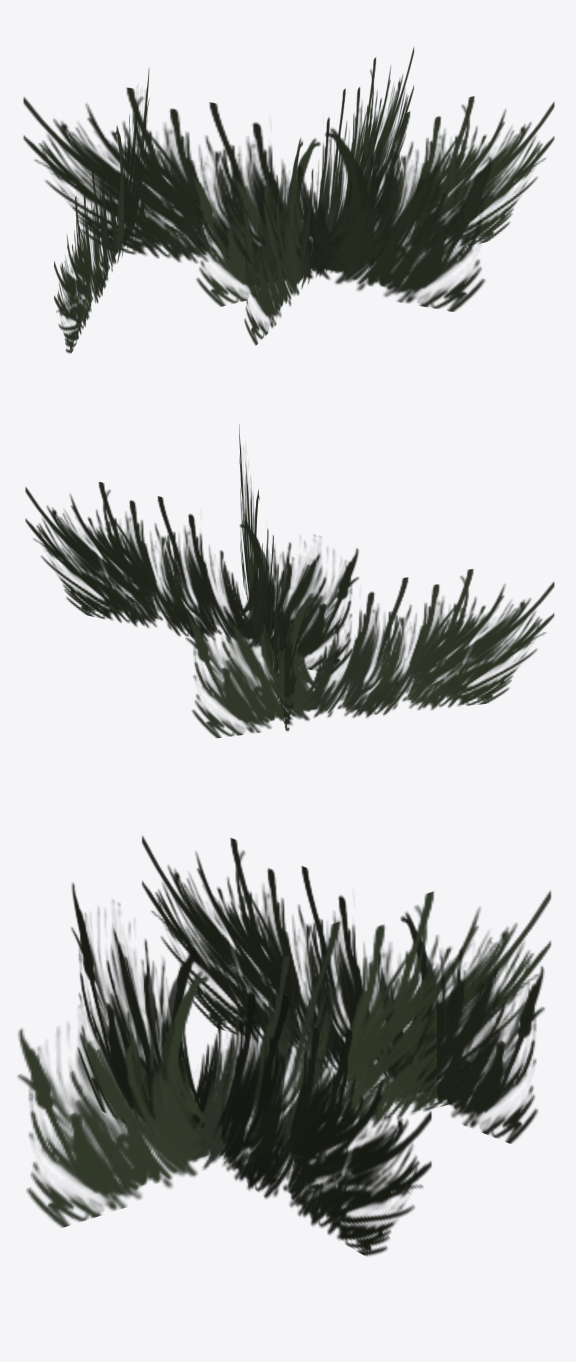
The model's file is grass01_01.glb.
3 views of the same model, one above another, from view 1: azimuth 30°, elevation 25°; view 2: azimuth 150°, elevation 25°; view 3: azimuth 270°, elevation 25° (orthographic). The views are drawn at different scales.
Visible parts, largest first — view 1: grass01_cluster01; view 2: grass01_cluster01; view 3: grass01_cluster01.
Boxes of the visible parts, x1,y1,x2,y2 form: grass01_cluster01: (23,47,554,353); grass01_cluster01: (25,425,554,738); grass01_cluster01: (17,836,551,1256).
Size of the model in its own units: 2.95 by 0.8762 by 1.93.
Materials: 1 (1 with a texture image).
